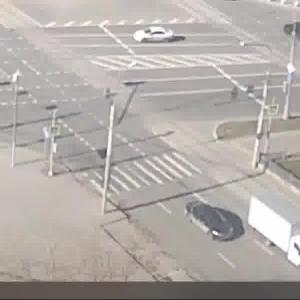car: (247, 193, 300, 267), (182, 200, 239, 248), (134, 27, 178, 45)
